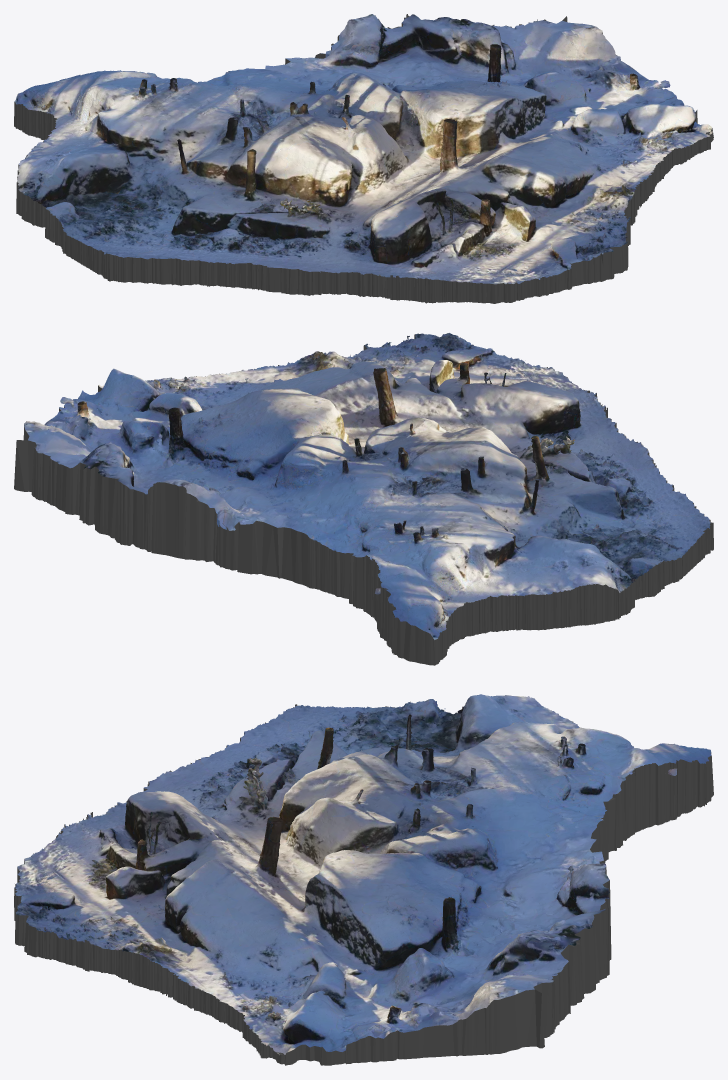
Rendered from rocks_with_snow.glb.
3 views of the same model, one above another, from view 1: azimuth 30°, elevation 25°; view 2: azimuth 150°, elevation 25°; view 3: azimuth 270°, elevation 25° (orthographic). The views are drawn at different scales.
Visible parts, largest first — view 1: Object_4, Object_3; view 2: Object_4, Object_3; view 3: Object_4, Object_3.
Boxes of the visible parts, bbox=[...] form: Object_4: bbox=[14, 14, 712, 284]; Object_3: bbox=[14, 14, 713, 303]; Object_4: bbox=[24, 333, 710, 639]; Object_3: bbox=[14, 334, 713, 665]; Object_4: bbox=[14, 694, 711, 1054]; Object_3: bbox=[14, 701, 713, 1065].
Size of the model in its own units: 41.15 by 5.62 by 36.28.
2 materials, 1 textured.
